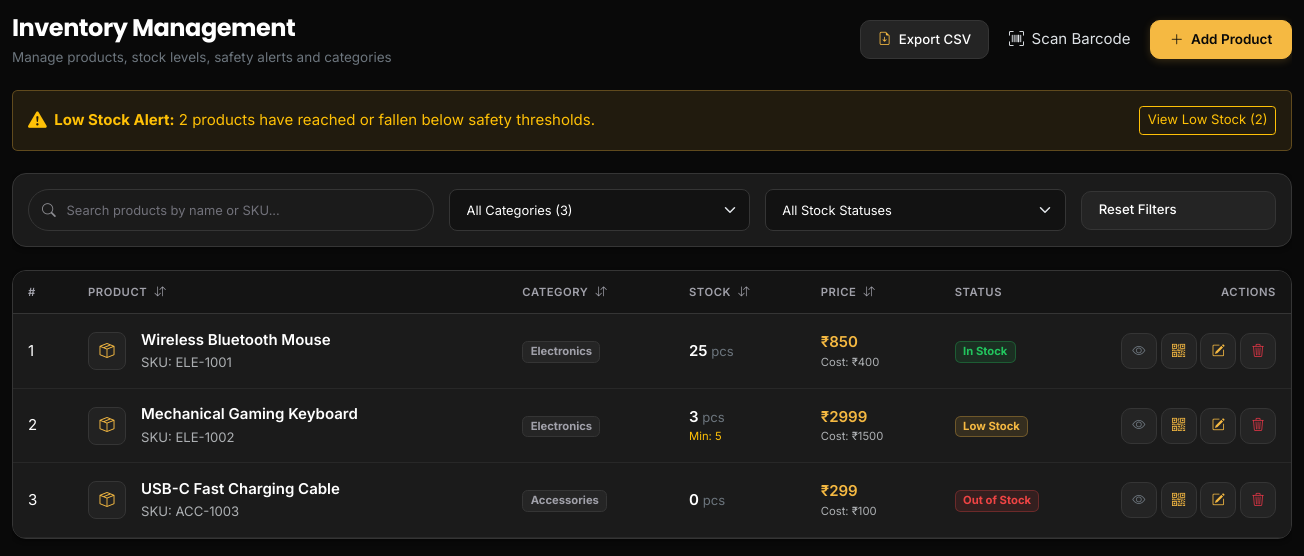
Scenario: Integration — Inventory Management Catalog & CRUD › filters product table in real-time when search term is entered
Type "Keyboard" into the field with placeholder "Search products by name or SKU..." at (231, 210), box [28,189,434,231]
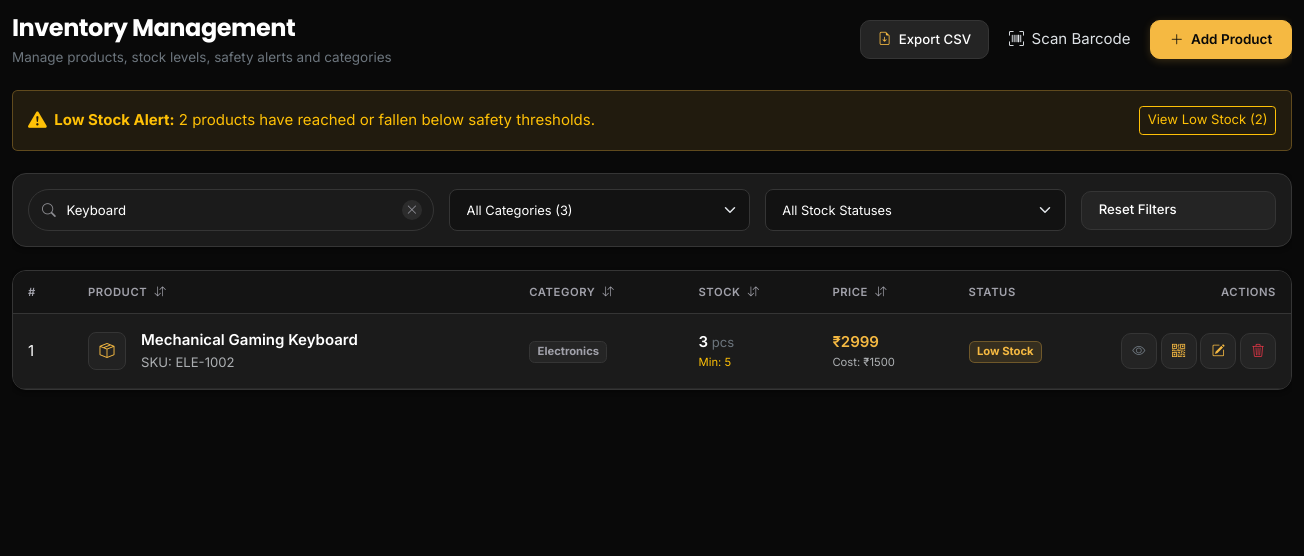
Check: the text "Mechanical Gaming Keyboard" is shown, box [141,328,358,351]
Check: the text "Wireless Bluetooth Mouse" is gone
Check: the text "USB-C Fast Charging Cable" is gone
